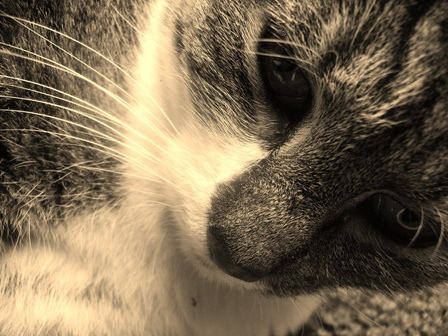cat: (1, 1, 448, 336)
